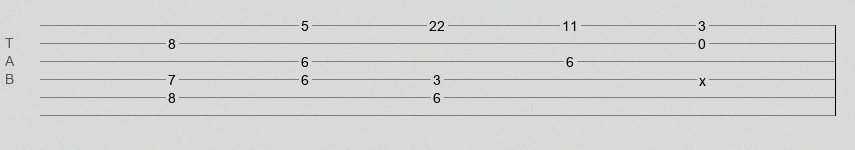0: (698, 36, 706, 46)
11: (562, 18, 578, 28)
22: (429, 18, 445, 28)
3: (433, 72, 441, 82), (698, 18, 706, 28)
5: (301, 18, 309, 28)
6: (301, 54, 309, 64), (301, 72, 309, 82), (433, 90, 441, 100), (566, 54, 574, 64)
7: (168, 72, 176, 82)
8: (168, 90, 176, 100), (168, 36, 176, 46)
x: (699, 73, 706, 81)
